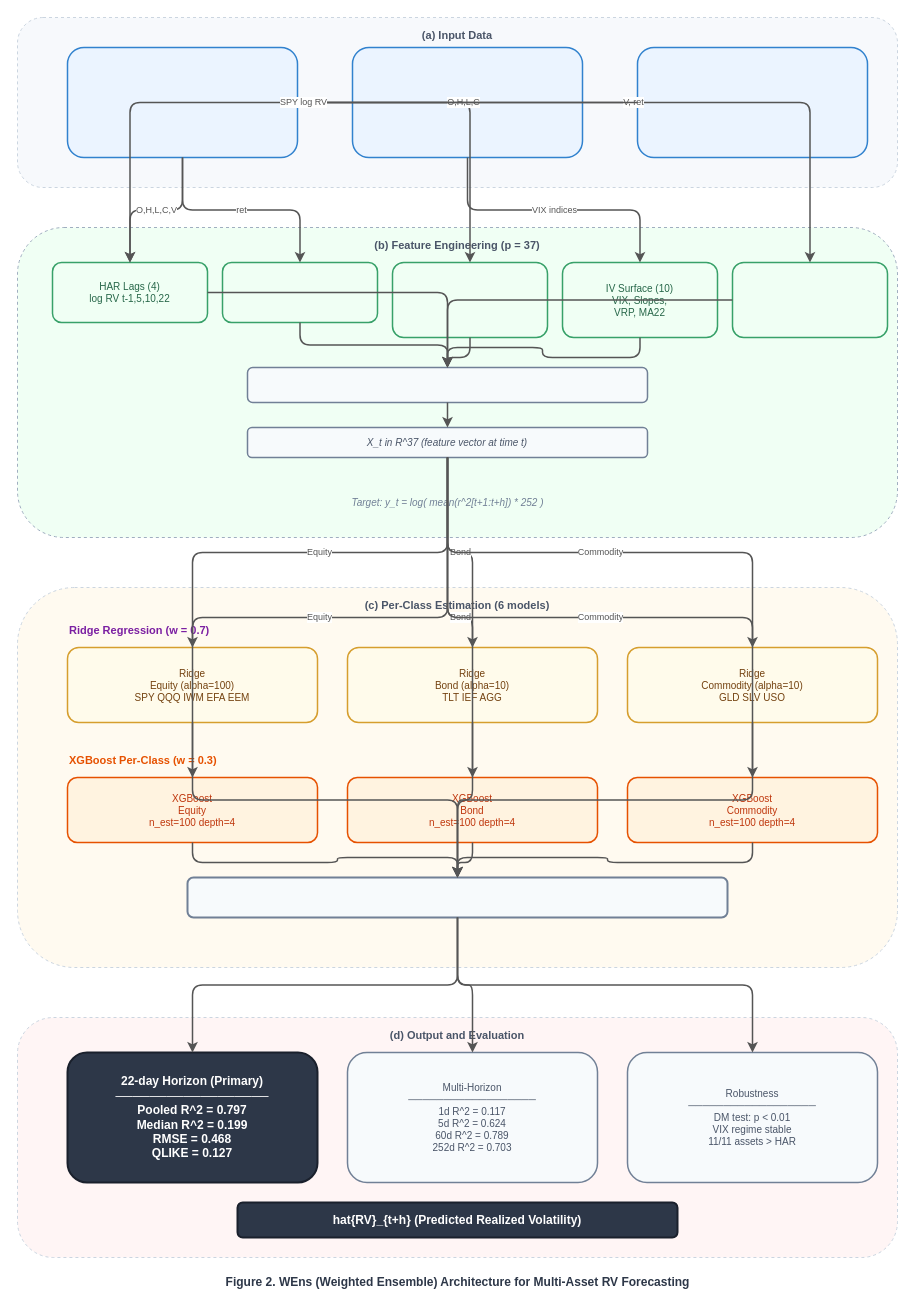
The diagram is 915 pixels wide and 1315 high, and some of its shapes have lost their labels. The shapes that lost their labels are listed below. From the top down, each one's centre as x and y in pixels, then its label:
the point at 182,102: OHLCV 11 ETF Assets (SPY, QQQ, IWM, EFA, EEM, TLT, IEF, AGG, GLD, SLV, USO)
the point at 467,102: VIX Term Structure (VIX9D, VIX, VIX3M)
the point at 752,102: Market Benchmark (SPY log RV)
the point at 299,292: GARCH (2) Daily, Weekly
the point at 469,299: Range Est. (7) Parkinson, GK, RS, Overnight, Ratio
the point at 809,299: Micro (6) Amihud, Kyle, Ord.Imbalance
the point at 447,384: Global StandardScaler (fit on entire train set)
the point at 457,897: hat{y}_t = 0.7 * hat{y}_Ridge + 0.3 * hat{y}_XGBoost
